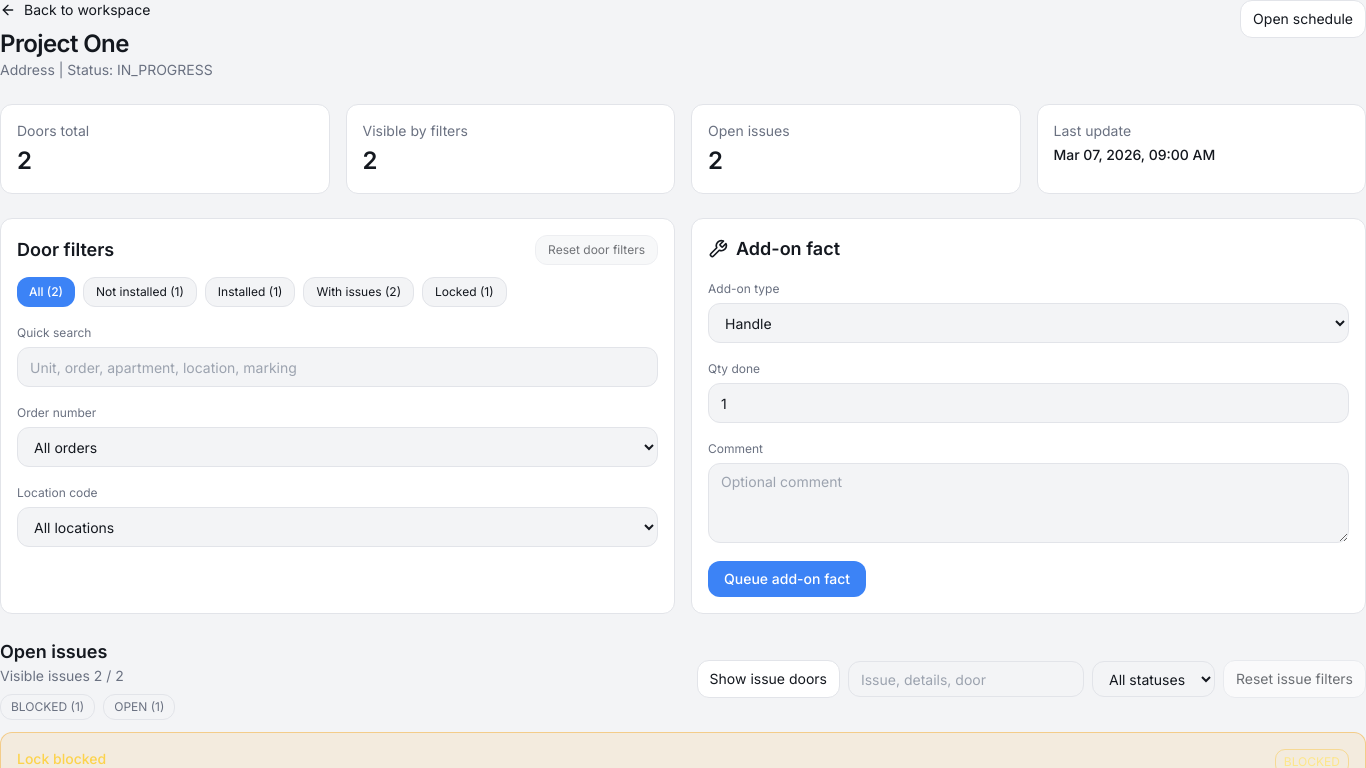
Test case: InstallerProjectPage › filters open issues by search and status, then resets issue filters
Expected: the text "Lock blocked" is shown, [17,749,106,767]
Type "B-202" into the field with placeholder "Issue, details, door" at (966, 679), box [848,661,1084,697]
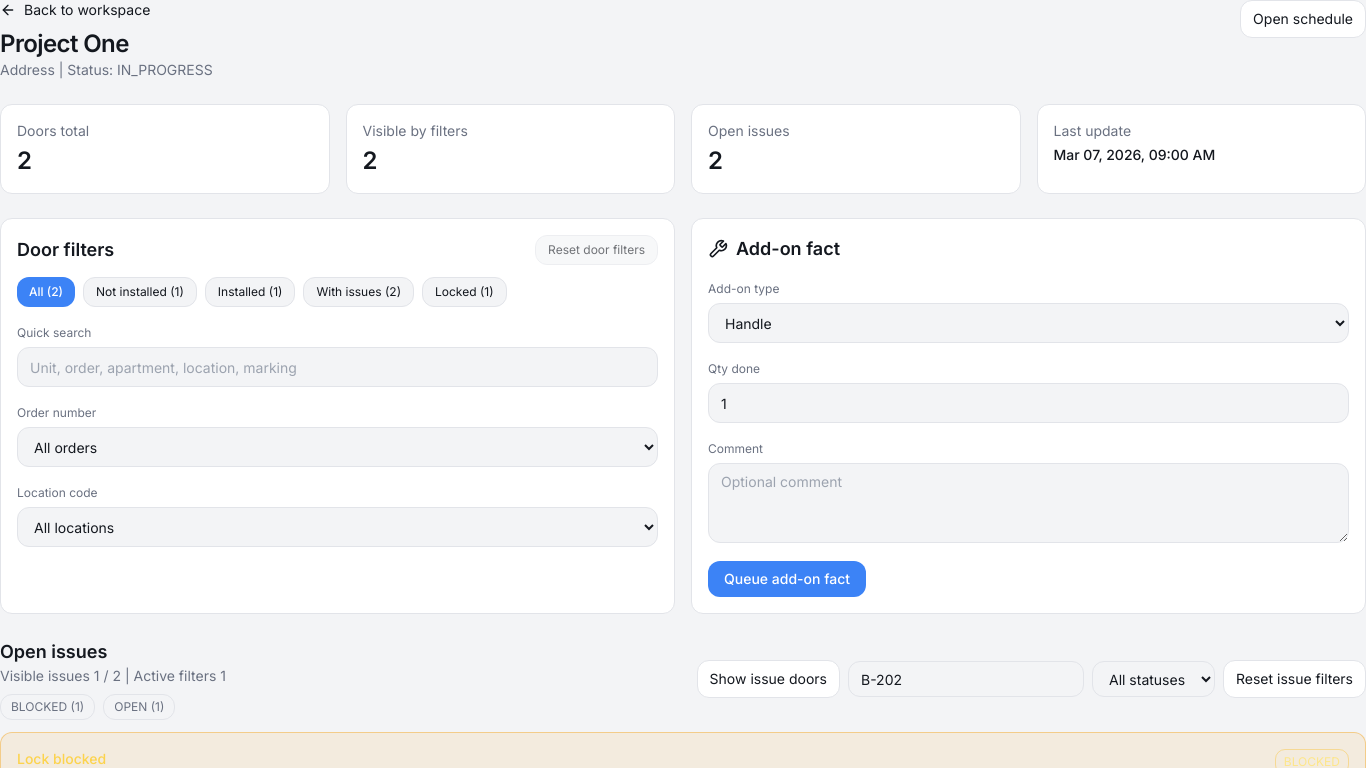
Expected: the text "Lock blocked" is shown, [17,749,106,767]
Select "OPEN" in the dropdown named "Issue status filter" at (1154, 679), box [1092,661,1215,697]
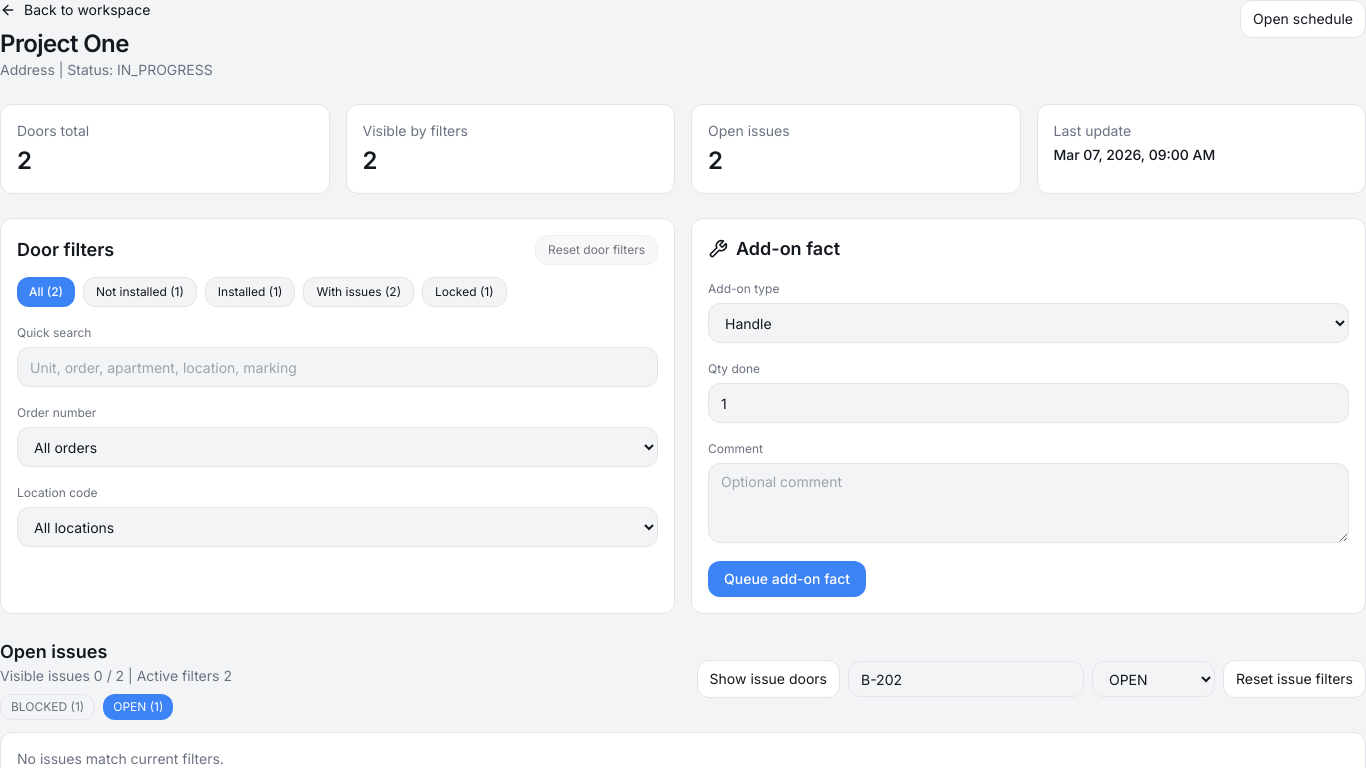
Click the button "Reset issue filters" at (1294, 679), box [1223,660,1365,698]
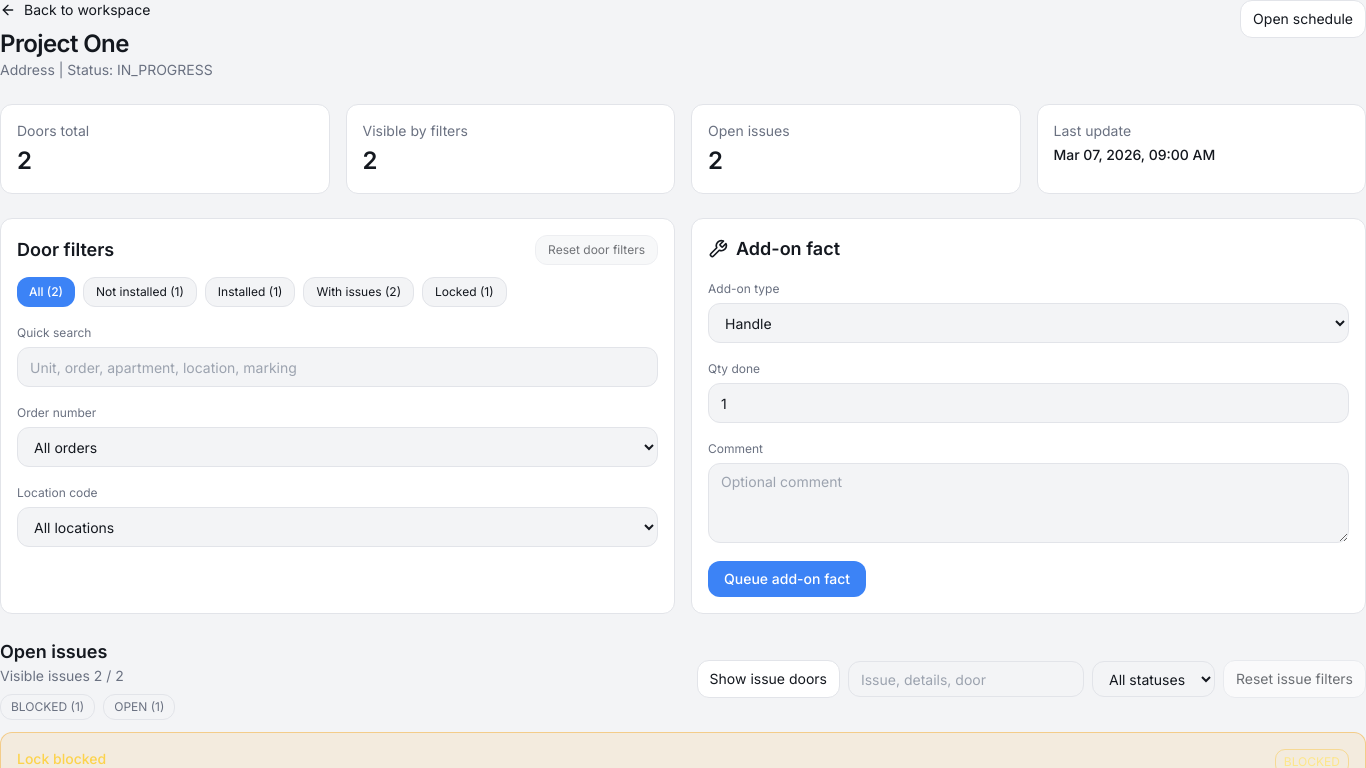
Expected: the text "Lock blocked" is shown, [17,749,106,767]
